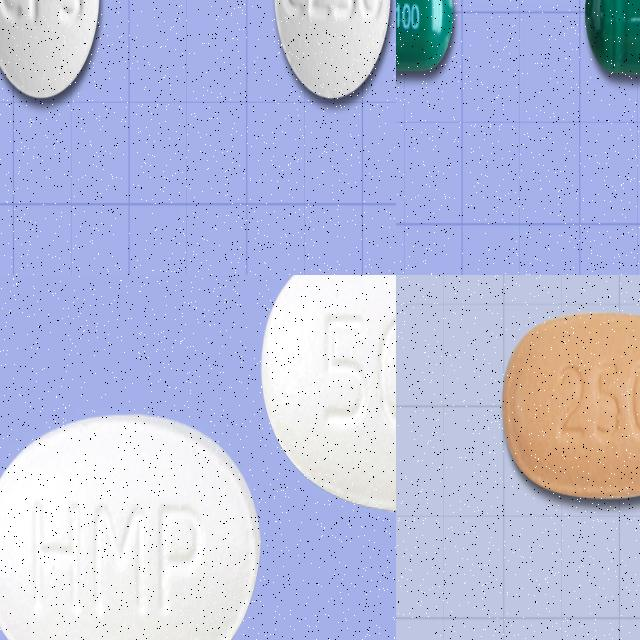Amoclan Duo Tab- Myungmoon: (0, 410, 264, 640), (256, 275, 396, 517)
Cipaxin: (271, 0, 394, 109), (0, 0, 104, 106)
Dongkoo Levofloxacin Hydrate Tab-250mg: (502, 310, 640, 500)
